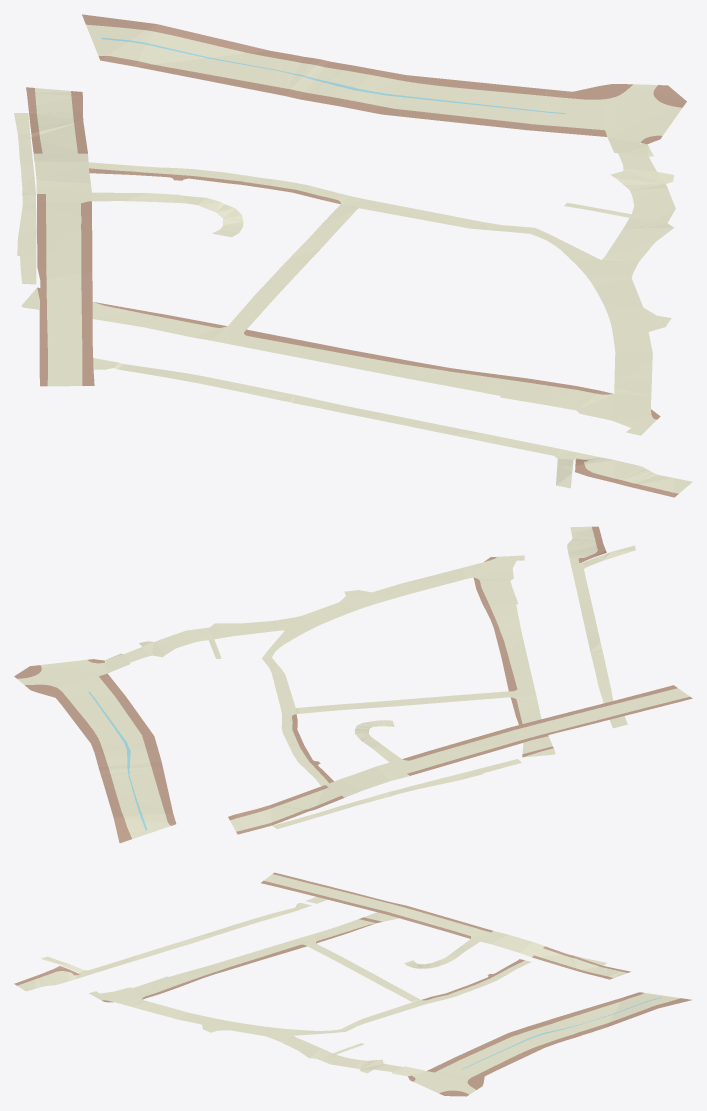
The model's file is data53.glb.
The picture shows the model from 3 angles, top to bottom: view 1: azimuth 30°, elevation 25°; view 2: azimuth 150°, elevation 25°; view 3: azimuth 270°, elevation 25°; orthographic projection. The views are drawn at different scales.
Size of the model in its own units: 265 by 9.78 by 366.
